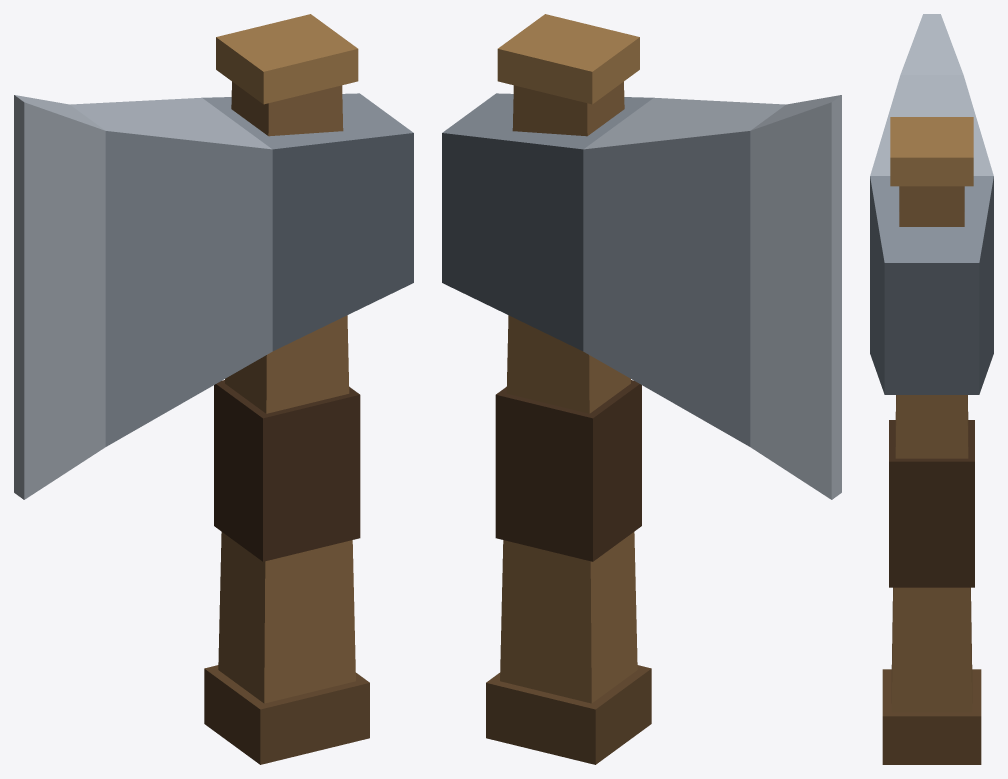
The model's file is Axe.fbx.
3 renders of one model, left to right at view 1: azimuth 30°, elevation 25°; view 2: azimuth 150°, elevation 25°; view 3: azimuth 270°, elevation 25°, orthographic. The views are drawn at different scales.
Parts seen in each view (by area): view 1: Axe; view 2: Axe; view 3: Axe.
Part boxes in pixels (x1=…): Axe: x1=14, y1=14, x2=413, y2=764; Axe: x1=442, y1=14, x2=841, y2=764; Axe: x1=870, y1=14, x2=993, y2=764.
Bounding box in the file's own units: 0.59 × 1.07 × 0.196.
